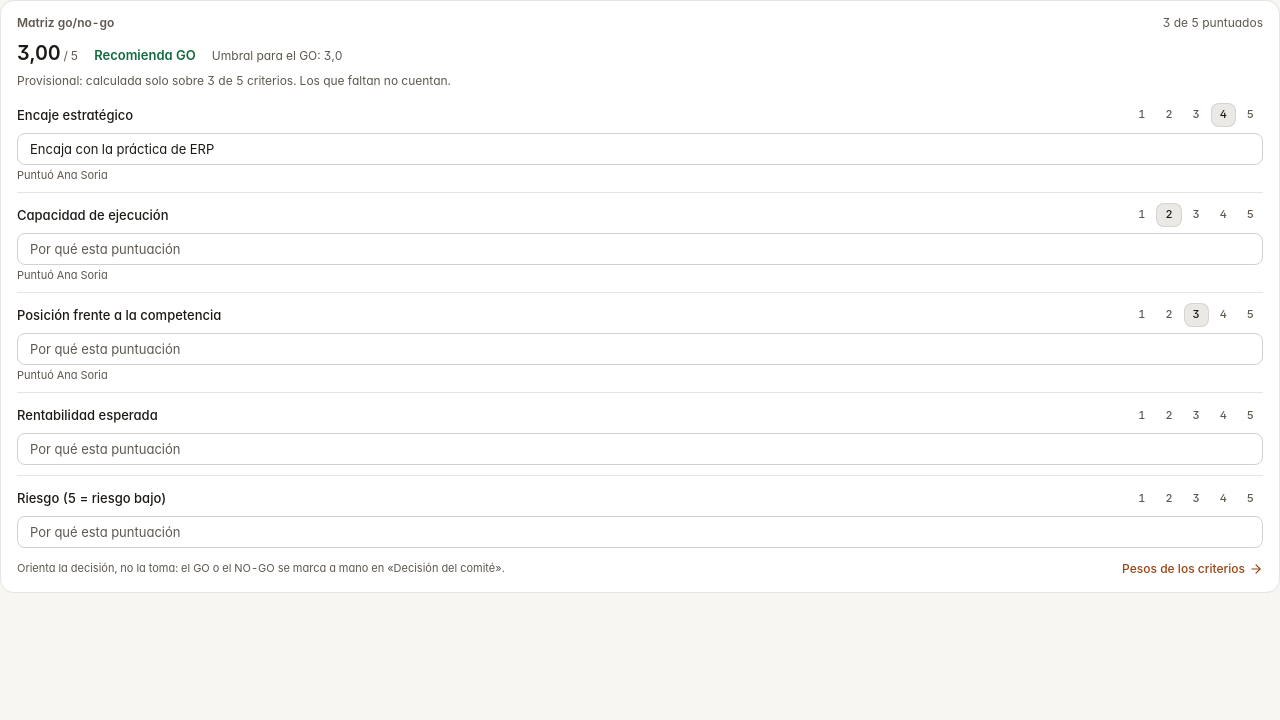
Test: MatrizGoNoGo › no deja guardar un motivo sin puntuación
Expected: the element named "Puntuación total" is shown, [17,41,78,65]
In the field named "Motivo de «Riesgo (5 = riesgo bajo)»": (640, 532) [17,516,1263,548], type "Plazo muy justo"
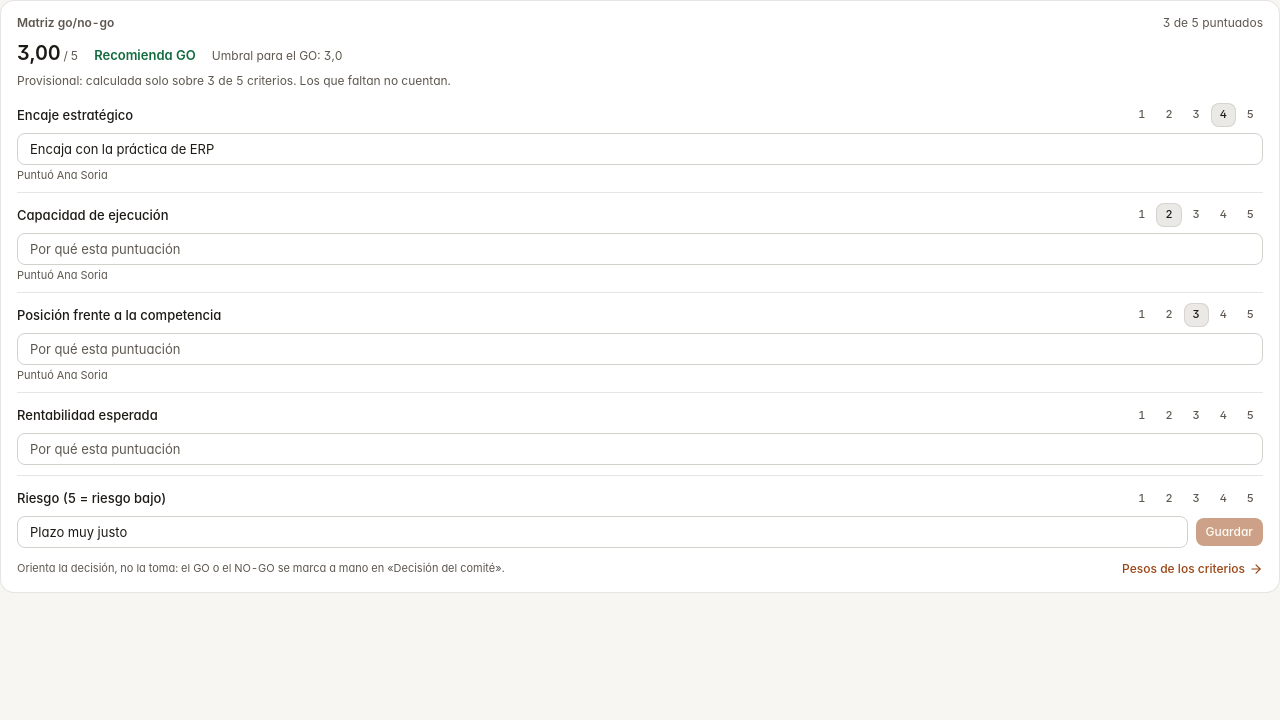
Result: the button with aria-label "Guardar «Riesgo (5 = riesgo bajo)»" is disabled at [1196,518,1263,546]
